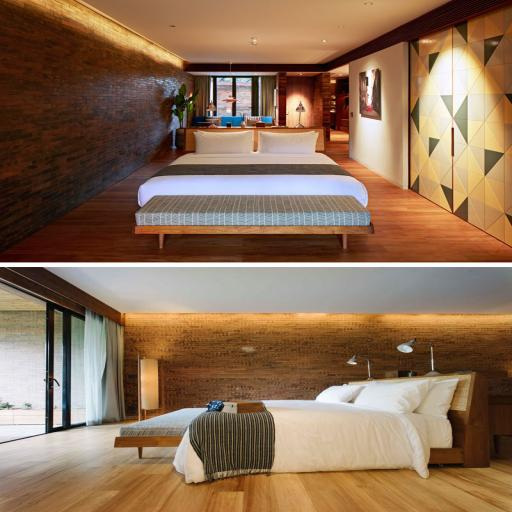bed: (114, 372, 490, 484), (132, 127, 374, 250)
sofa: (192, 115, 274, 127)
